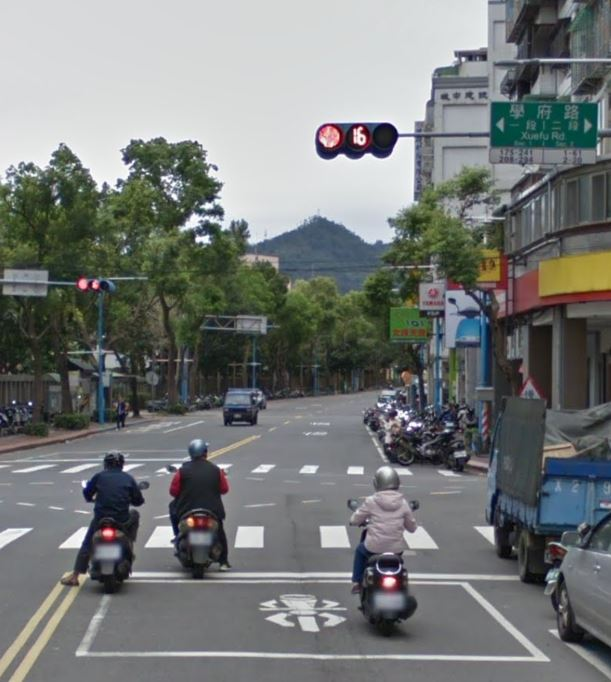Traffic_light_red: (311, 118, 399, 161), (73, 275, 117, 297)
